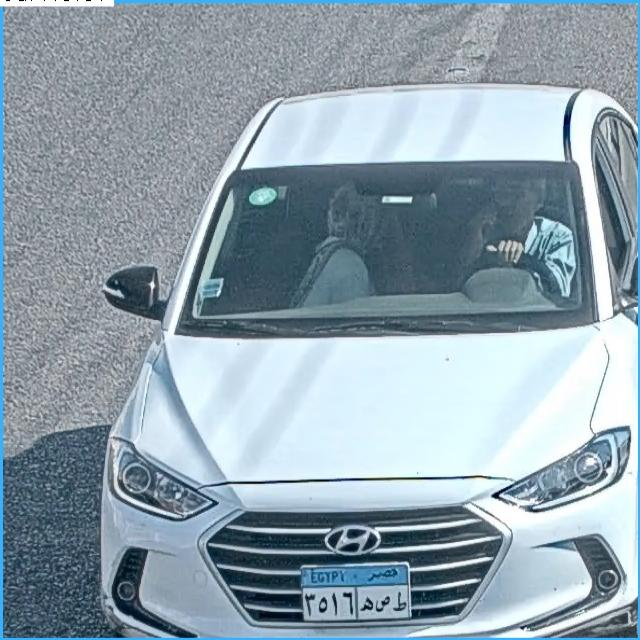windshield: (167, 165, 588, 332)
